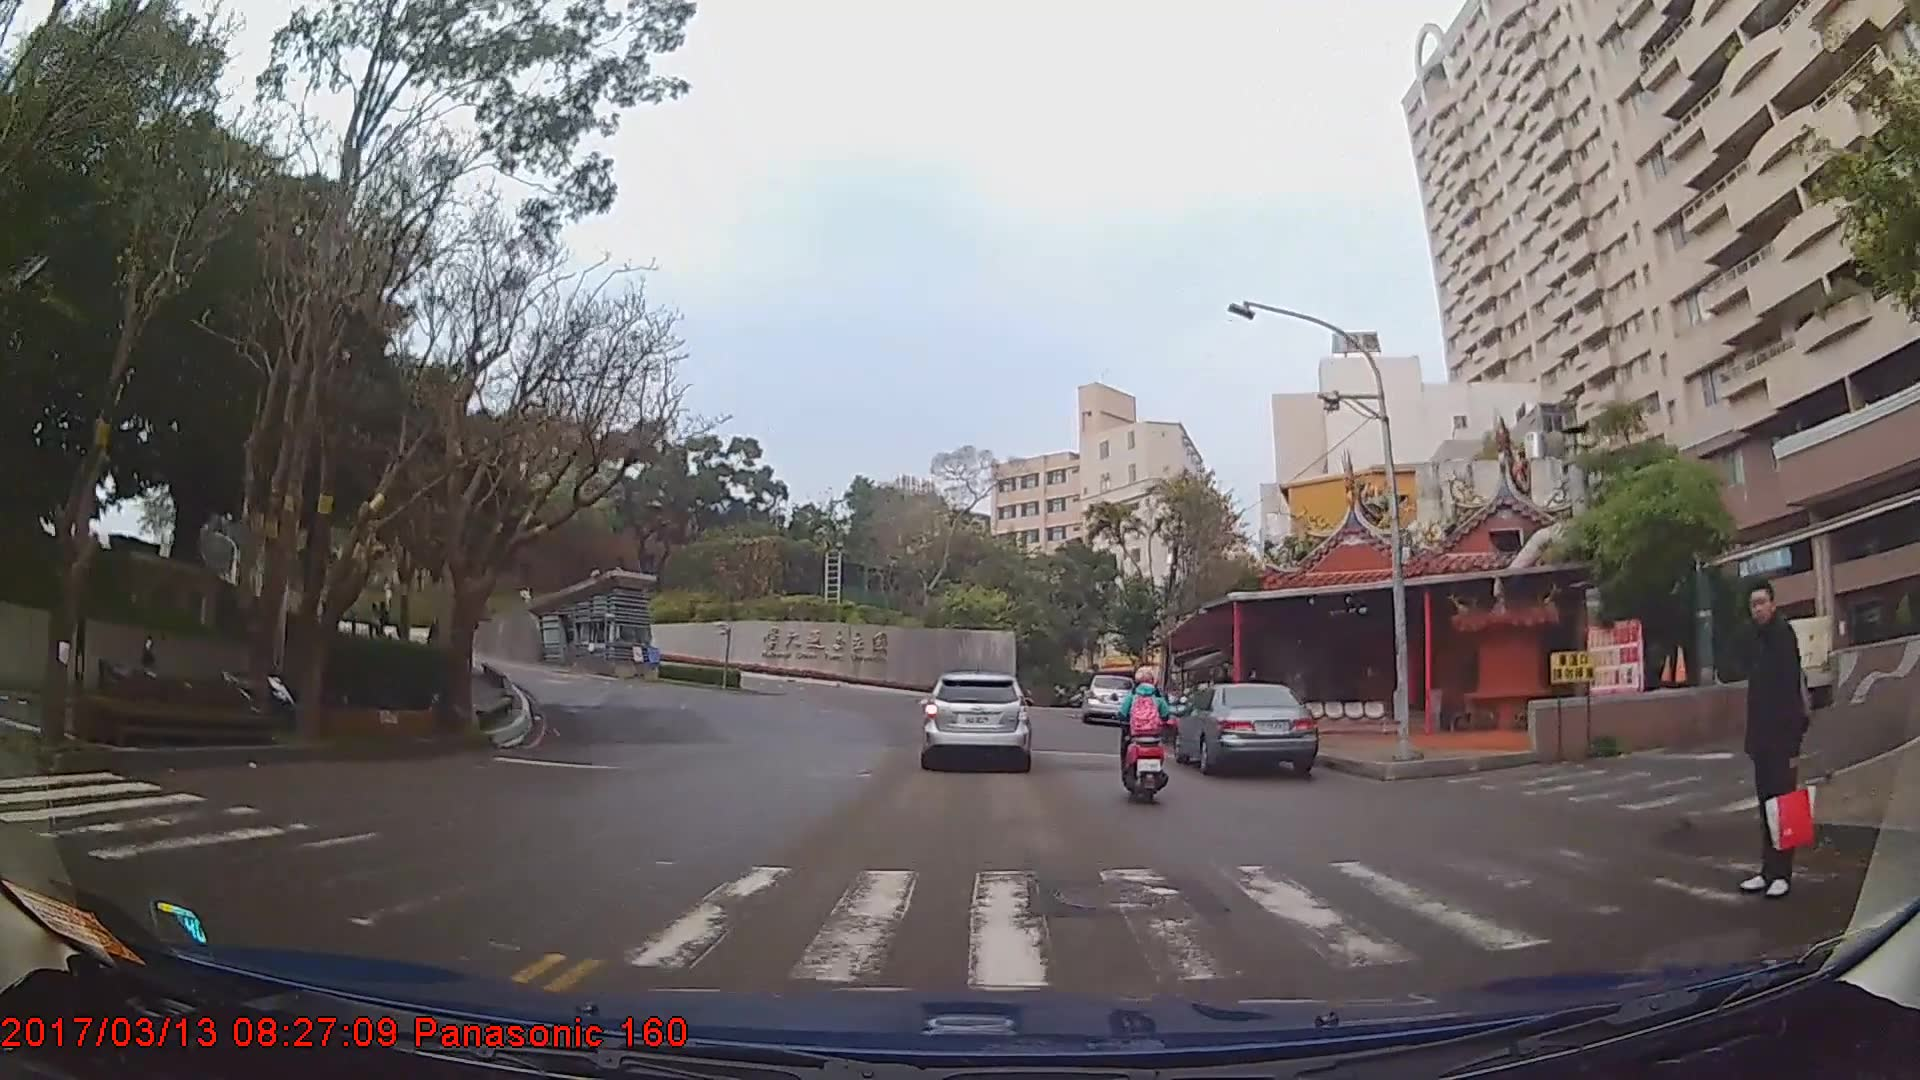pedestrian: (1712, 577, 1820, 898)
rider: (1116, 664, 1179, 812)
vehicle: (1171, 682, 1316, 773), (921, 670, 1030, 772), (1081, 673, 1132, 723)
